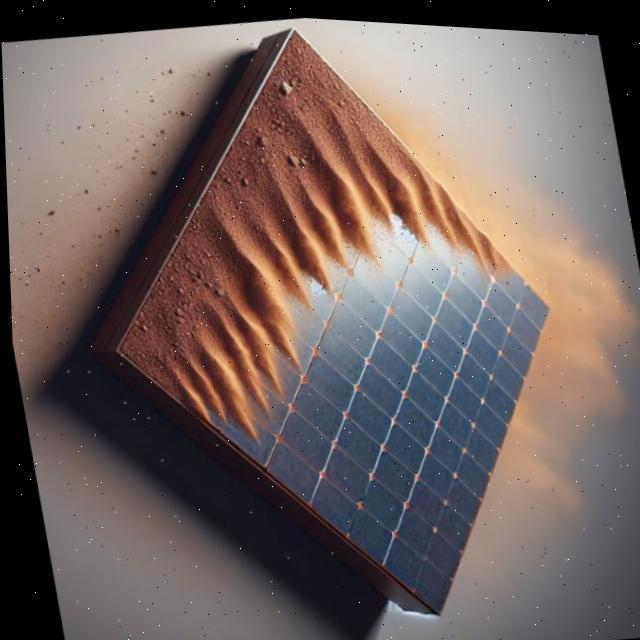Anomaly Solar Panel: (73, 22, 640, 606)
Surface Contaminant: (42, 21, 531, 510)
